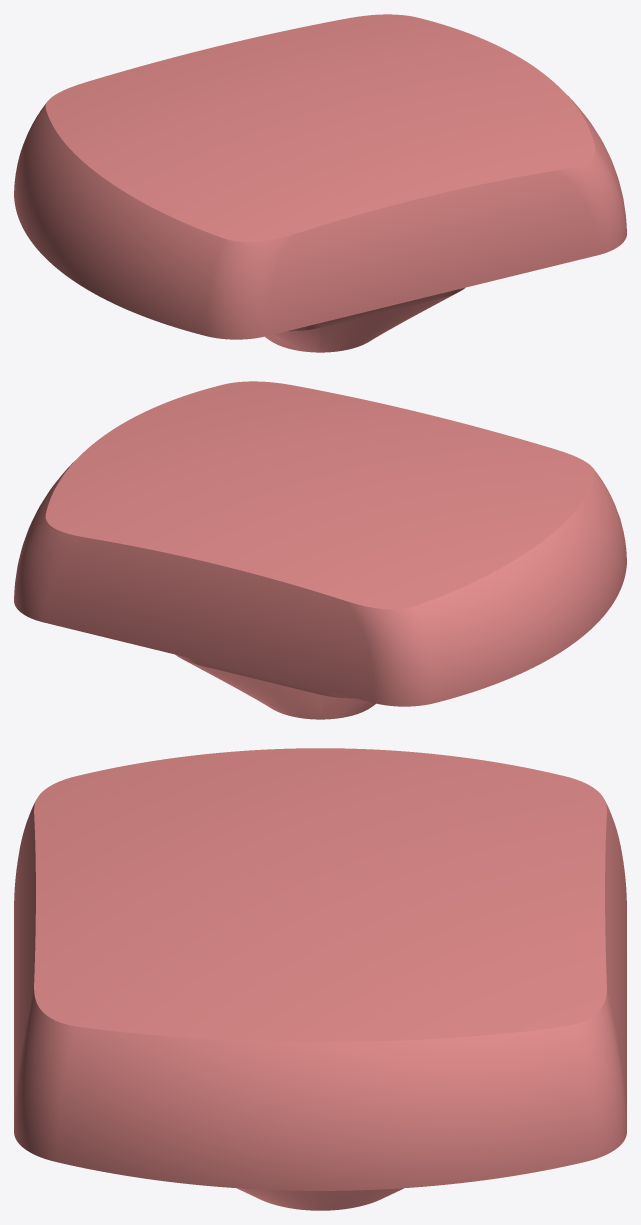
File: OUTFITTING_INTERIOR__EXT. INSTRUMENTS__Furuno SCX-20 satellite compass.glb
3 views of the same model, one above another, from view 1: azimuth 30°, elevation 25°; view 2: azimuth 150°, elevation 25°; view 3: azimuth 270°, elevation 25° (orthographic). The views are drawn at different scales.
Parts seen in each view (by area): view 1: Furuno SCX-20 satellite compass; view 2: Furuno SCX-20 satellite compass; view 3: Furuno SCX-20 satellite compass.
Boxes of the visible parts, <box> form: Furuno SCX-20 satellite compass: <box>14,14,626,352</box>; Furuno SCX-20 satellite compass: <box>14,381,626,719</box>; Furuno SCX-20 satellite compass: <box>14,748,626,1210</box>.
Size of the model in its own units: 0.251 by 0.1023 by 0.1908.
